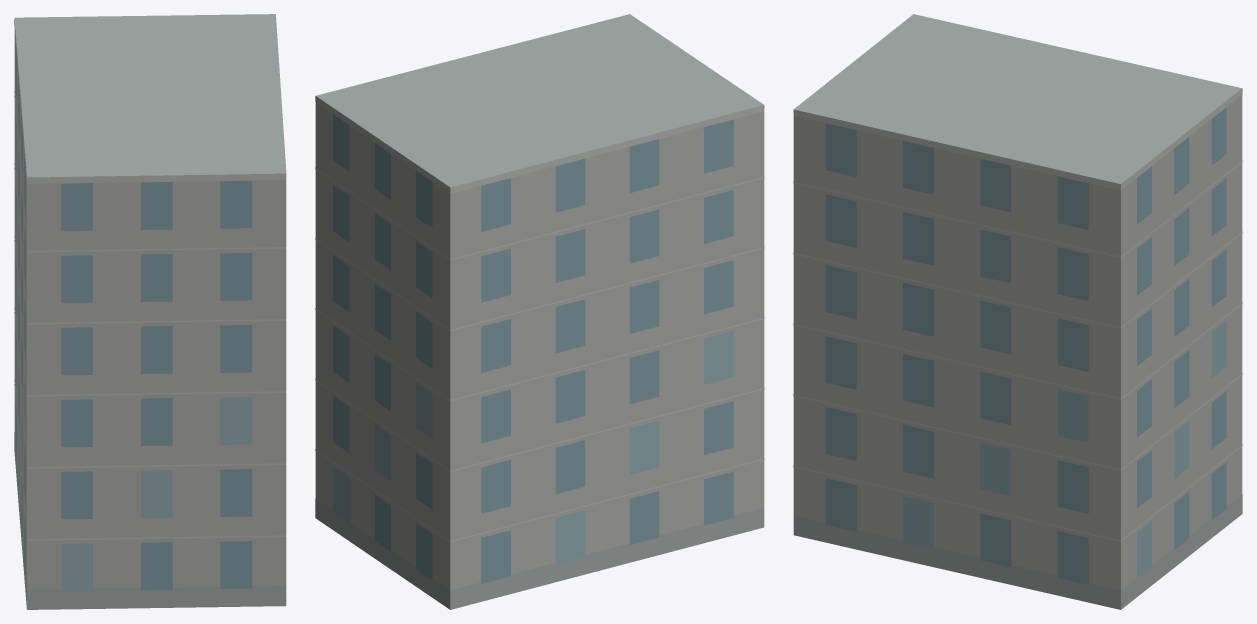
Rendered from survey-upis-32660830.glb.
3 views of the same model, side by side, from view 1: azimuth 30°, elevation 25°; view 2: azimuth 150°, elevation 25°; view 3: azimuth 270°, elevation 25° (orthographic). The views are drawn at different scales.
Parts seen in each view (by area): view 1: survey-upis-32660830.tmp; view 2: survey-upis-32660830.tmp; view 3: survey-upis-32660830.tmp.
Part boxes in pixels (box(x1,y1,x2,y2)): survey-upis-32660830.tmp: box(14, 14, 286, 609); survey-upis-32660830.tmp: box(315, 14, 764, 609); survey-upis-32660830.tmp: box(793, 14, 1242, 609).
Size of the model in its own units: 13.99 by 16.3 by 15.59.
